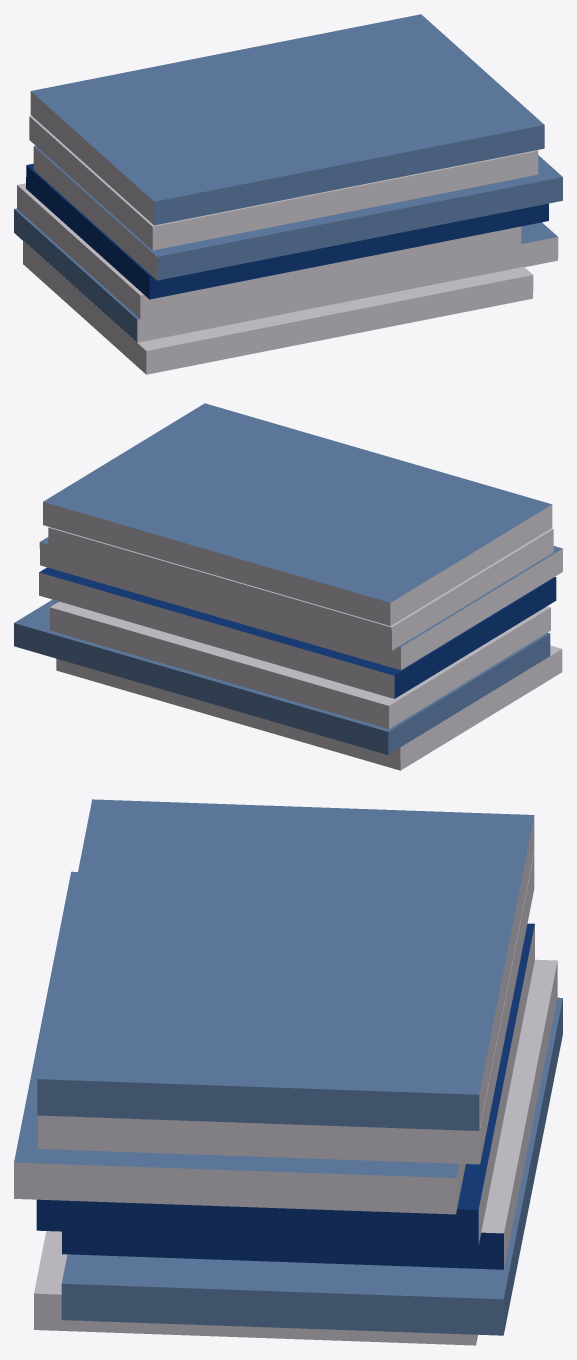
The model's file is scene_FileStack.fbx.
3 renders of one model, top to bottom at view 1: azimuth 30°, elevation 25°; view 2: azimuth 150°, elevation 25°; view 3: azimuth 270°, elevation 25°, orthographic. The views are drawn at different scales.
Visible parts, largest first — view 1: FileStack; view 2: FileStack; view 3: FileStack.
Part boxes in pixels (left/top/right/bottom): FileStack: left=14, top=14, right=562, bottom=374; FileStack: left=14, top=403, right=562, bottom=770; FileStack: left=14, top=799, right=562, bottom=1345.
Bounding box in the file's own units: 74.45 × 28.66 × 54.52.
